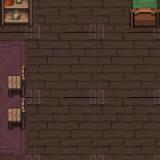Hide: (129, 0, 160, 32)
Obstacle: (0, 64, 33, 97), (0, 97, 33, 130), (0, 0, 33, 33)
